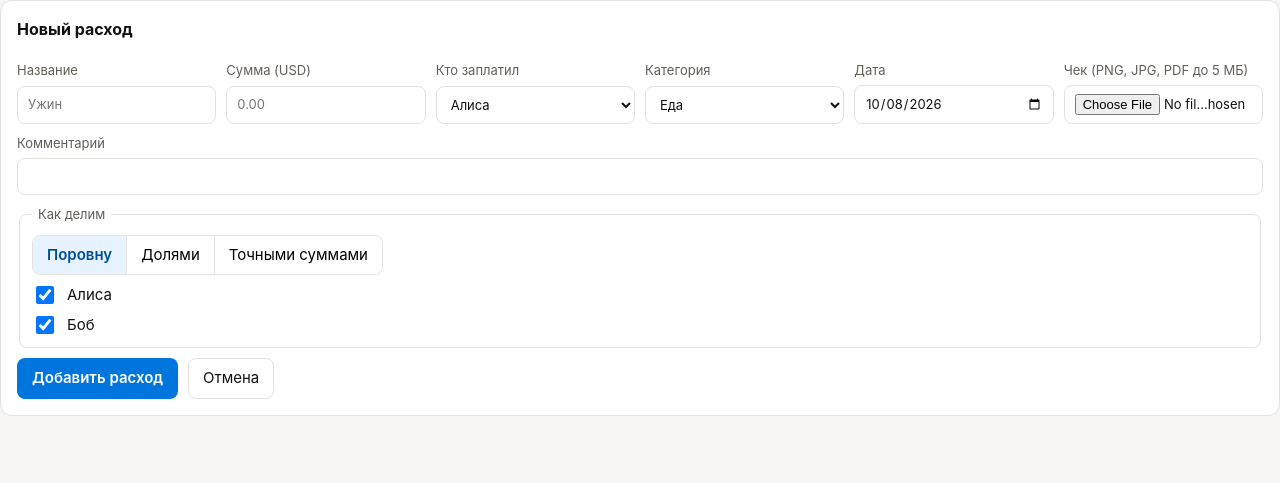
Scenario: ExpenseForm › shows the server's translated message when saving fails
The image size is (1280, 483).
Type "5" into the field with placeholder "0.00". click: (326, 105)
box: [226,86,426,124]
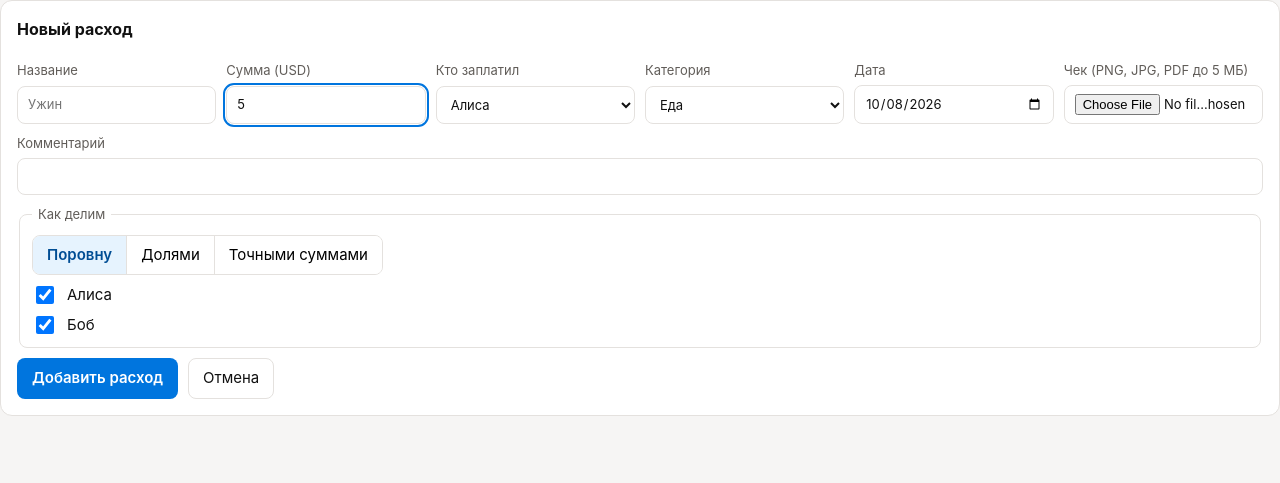
Click the button "Добавить расход". click: (98, 378)
box: [17,358,178,398]
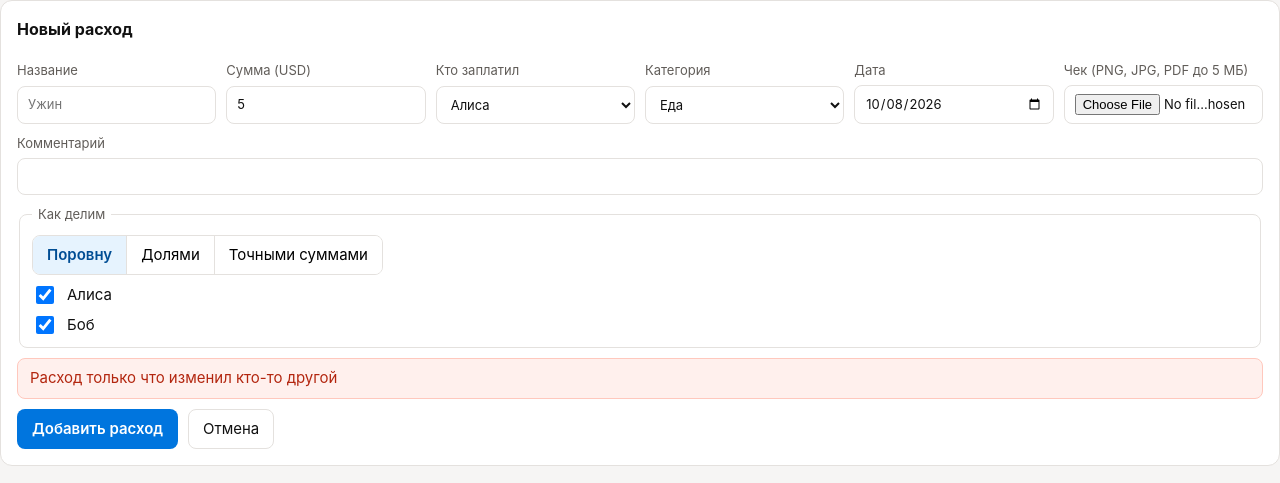
Now the message shows "кто-то другой", box [30,368,337,387]
